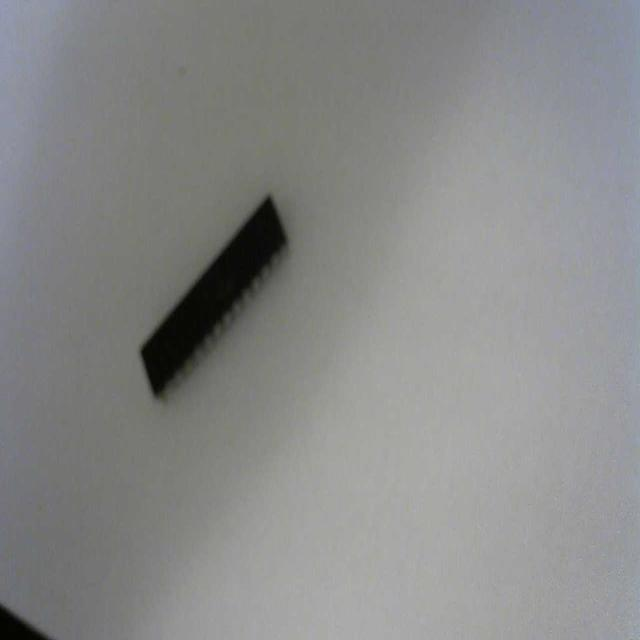atmega: (137, 190, 290, 403)
